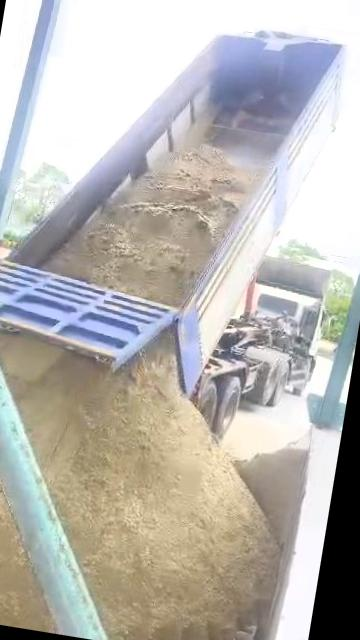sand: (0, 333, 277, 640), (45, 145, 261, 304), (0, 364, 45, 630), (237, 436, 307, 545)
